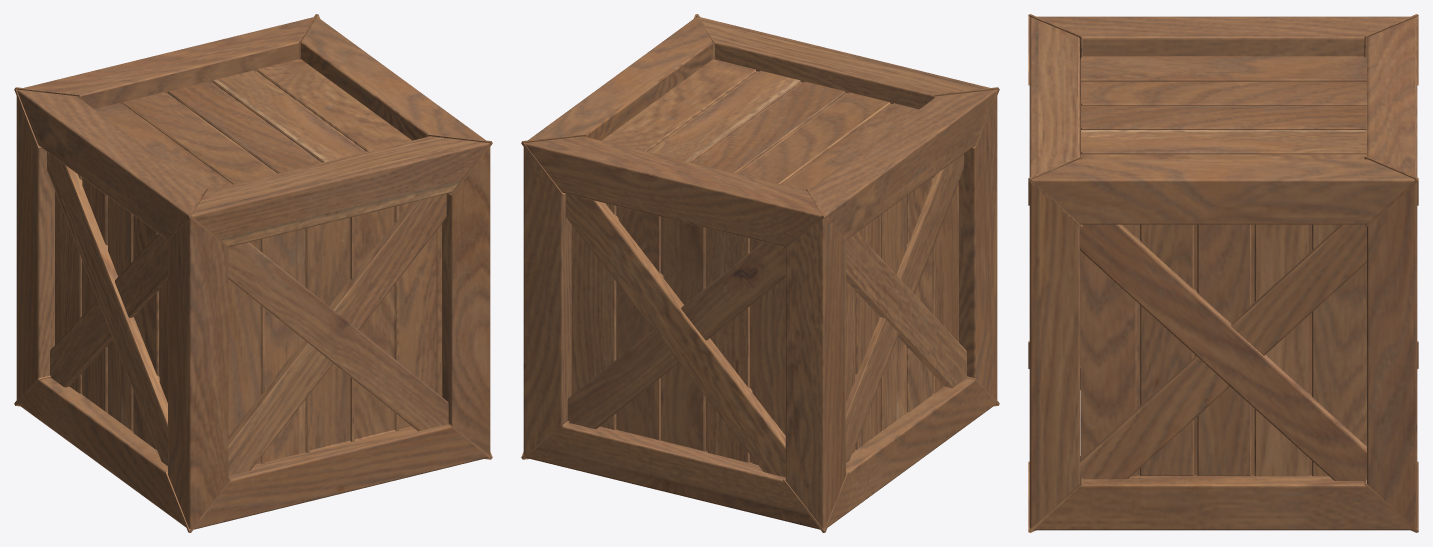
The model's file is Crate.fbx.
The picture shows the model from 3 angles, left to right: view 1: azimuth 30°, elevation 25°; view 2: azimuth 150°, elevation 25°; view 3: azimuth 270°, elevation 25°; orthographic projection. The views are drawn at different scales.
Parts seen in each view (by area): view 1: Cube; view 2: Cube; view 3: Cube.
Part boxes in pixels (bbox=[...]): Cube: bbox=[14, 14, 492, 532]; Cube: bbox=[521, 14, 999, 532]; Cube: bbox=[1028, 14, 1418, 532].
Size of the model in its own units: 202 by 202 by 202.
